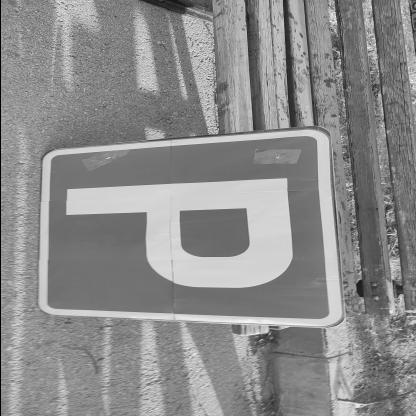Parking-Sign: (40, 125, 346, 331)
